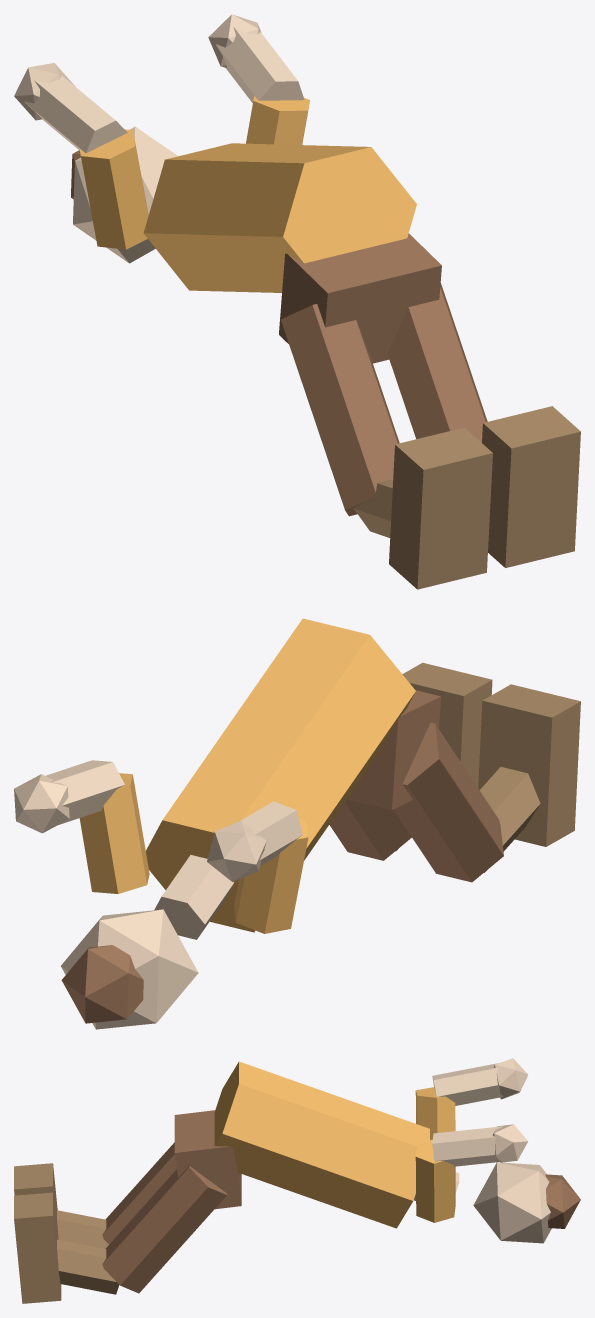
Rendered from pose_dodge_roll_17.glb.
The picture shows the model from 3 angles, top to bottom: view 1: azimuth 30°, elevation 25°; view 2: azimuth 150°, elevation 25°; view 3: azimuth 270°, elevation 25°; orthographic projection. The views are drawn at different scales.
Visible parts, largest first — view 1: pose; view 2: pose; view 3: pose.
Part boxes in pixels (box(x1,y1,x2,y2)): pose: box(14, 14, 580, 589); pose: box(14, 618, 580, 1029); pose: box(14, 1058, 580, 1303).
Size of the model in its own units: 0.4876 by 0.5766 by 1.45.
